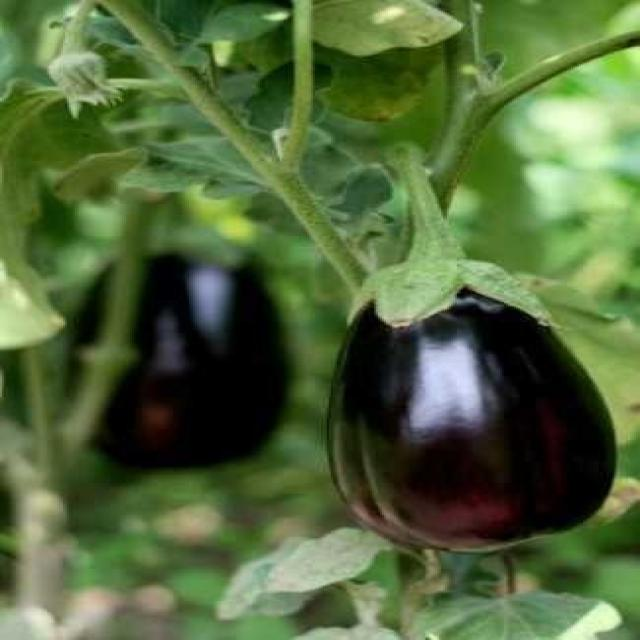Eggplant-r1Ob: (330, 156, 615, 551)
